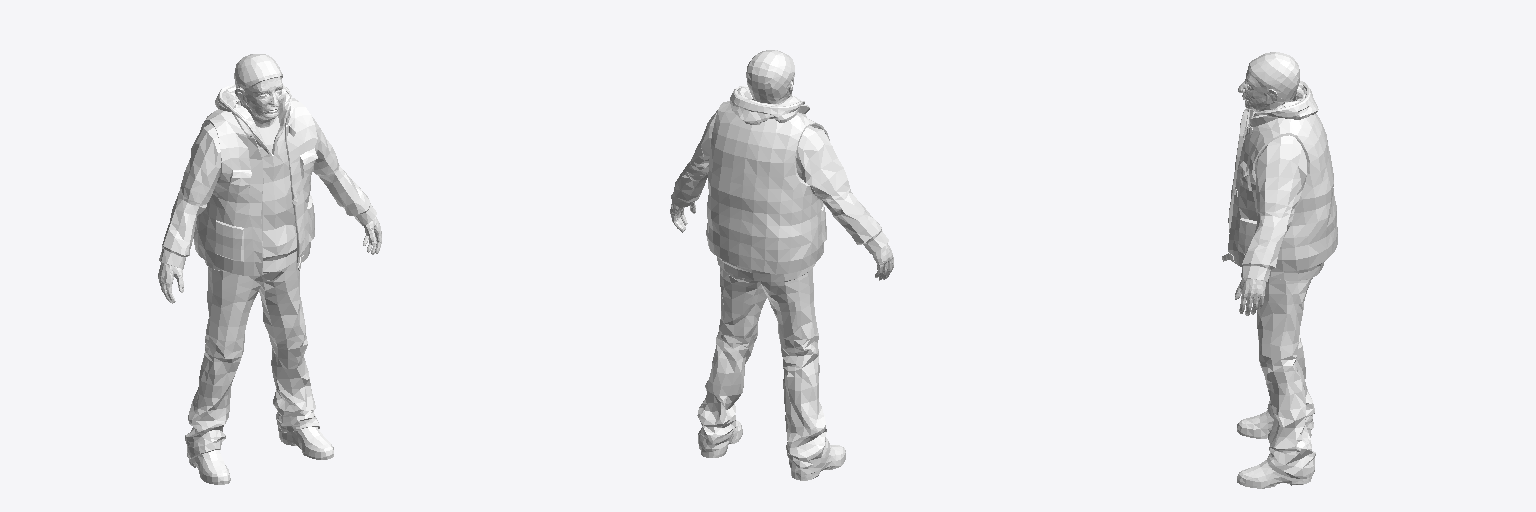
File: muro.obj
3 renders of one model, left to right at view 1: azimuth 30°, elevation 25°; view 2: azimuth 150°, elevation 25°; view 3: azimuth 270°, elevation 25°, orthographic.
Parts seen in each view (by area): view 1: muro_main_Mesh.001, muro_head_Mesh; view 2: muro_main_Mesh.001, muro_head_Mesh; view 3: muro_main_Mesh.001, muro_head_Mesh.
Part boxes in pixels (x1,y1,x2,y2): muro_main_Mesh.001: (158, 84, 381, 484); muro_head_Mesh: (234, 54, 282, 127); muro_main_Mesh.001: (670, 86, 893, 480); muro_head_Mesh: (746, 50, 794, 105); muro_main_Mesh.001: (1222, 81, 1337, 488); muro_head_Mesh: (1238, 52, 1299, 111).
Size of the model in its own units: 1.02 by 1.81 by 0.4691.